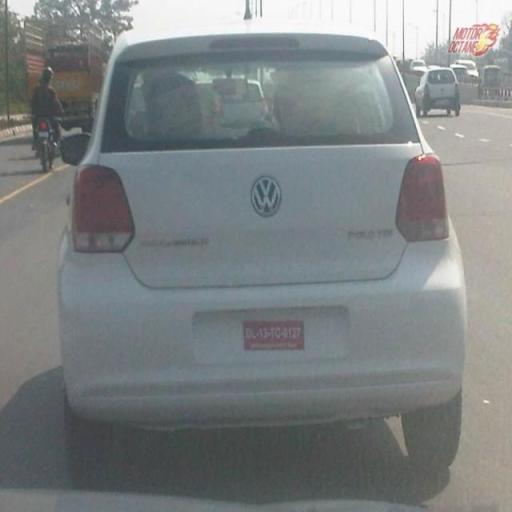number plate: (240, 320, 306, 353)
